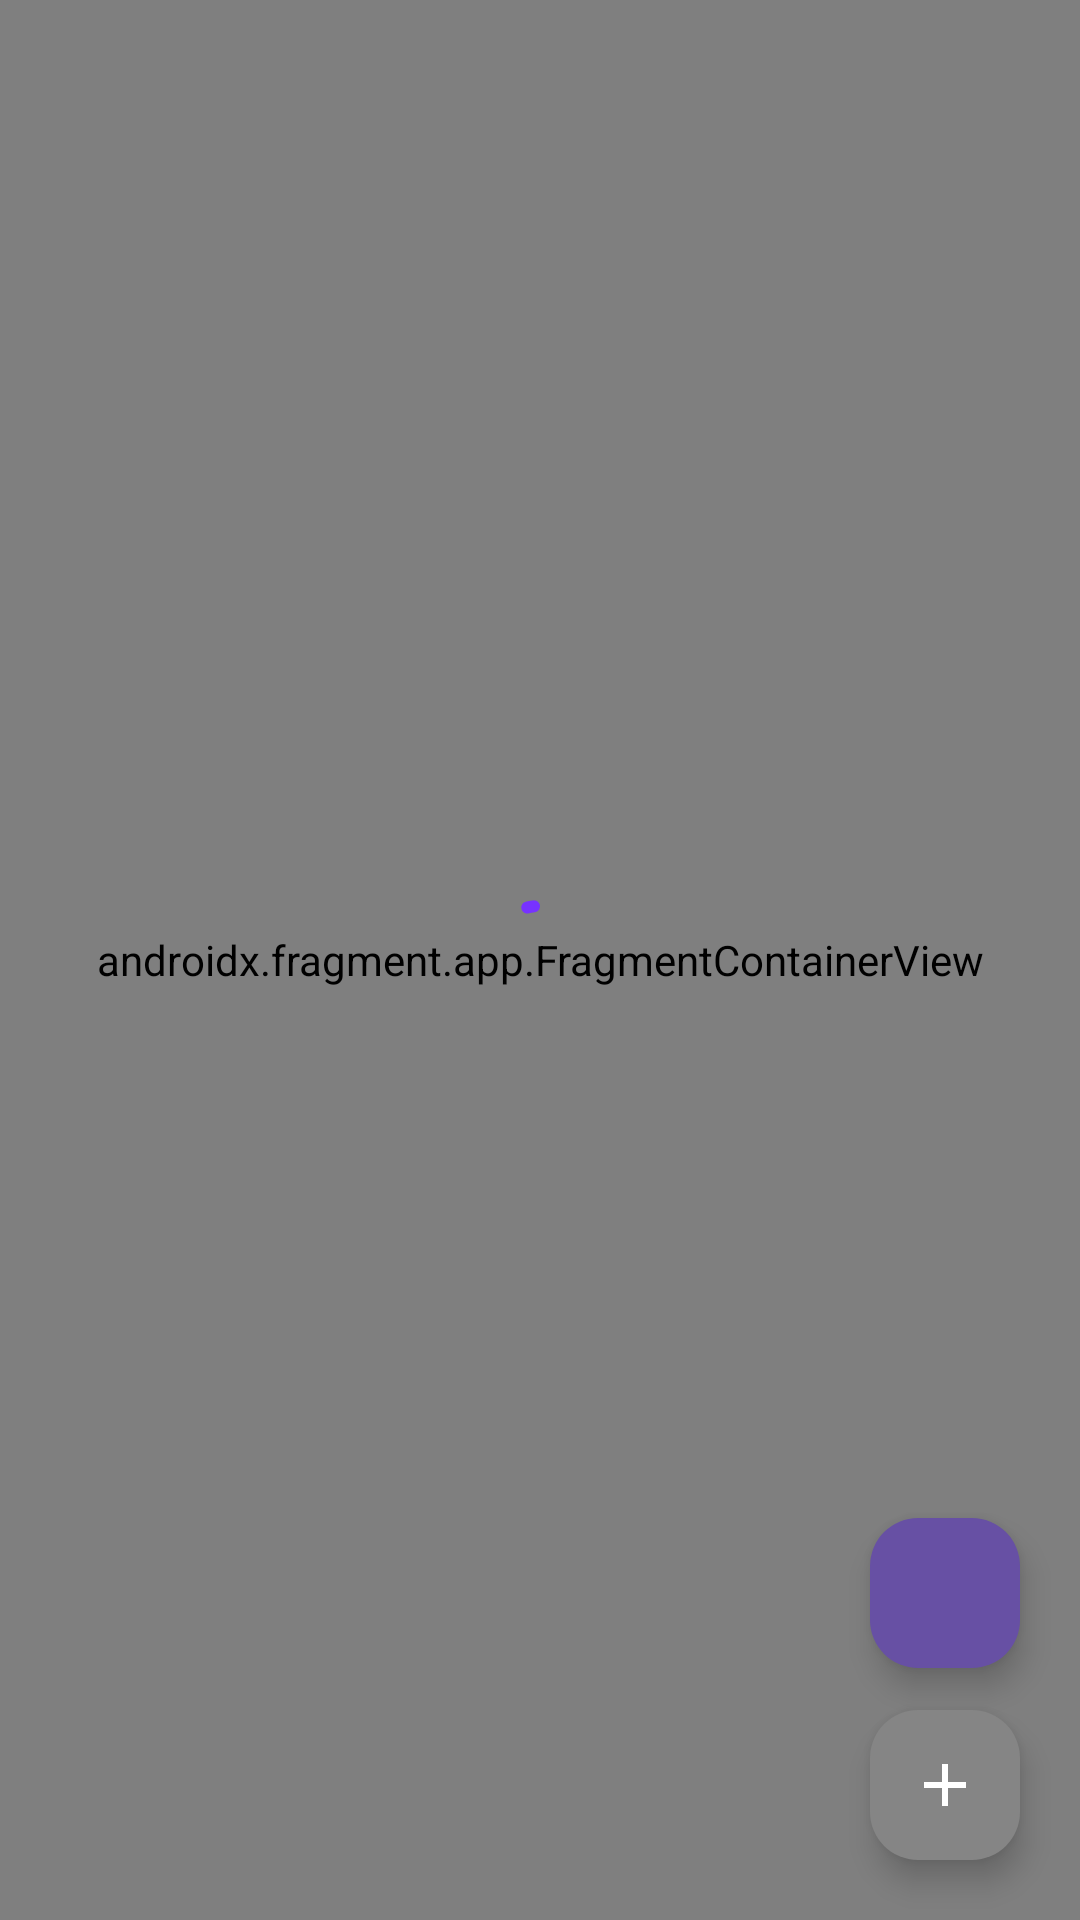

Icon click points for this 1080×1920 phone screenshot, format (x,y):
add: (945,1785)
